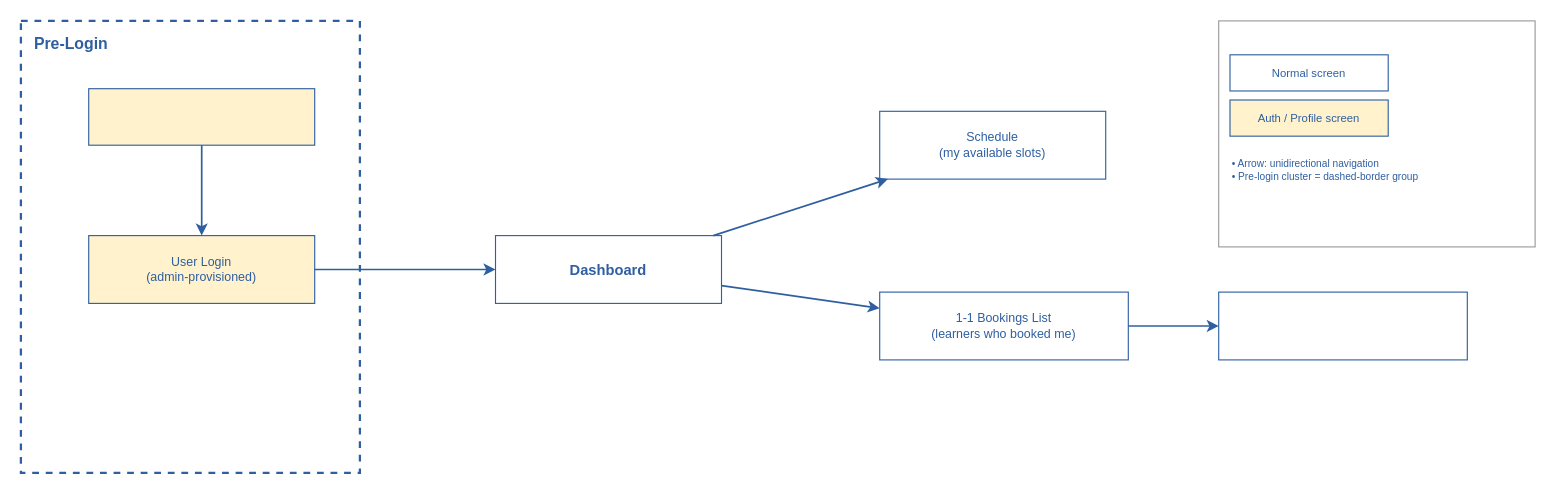
Image size: 1555x493. Some labels were removed from this diagram. Here are the shapes that lost their labels. From the top down, the box of each, then its label:
(88, 88, 315, 145): Landing Page
(1218, 20, 1535, 247): Legend
(1218, 291, 1467, 360): Booking Detail (learner info + meet URL)
